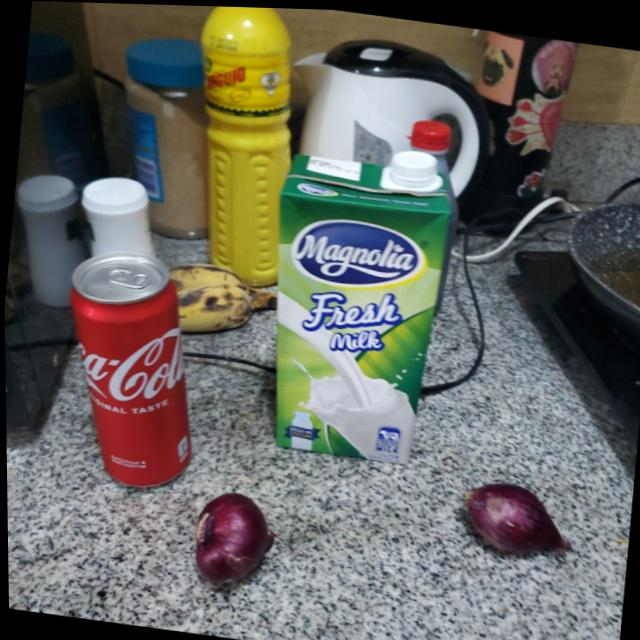coke: (49, 247, 208, 496)
milk: (255, 131, 463, 469)
onion: (184, 482, 281, 592), (456, 473, 570, 560)
